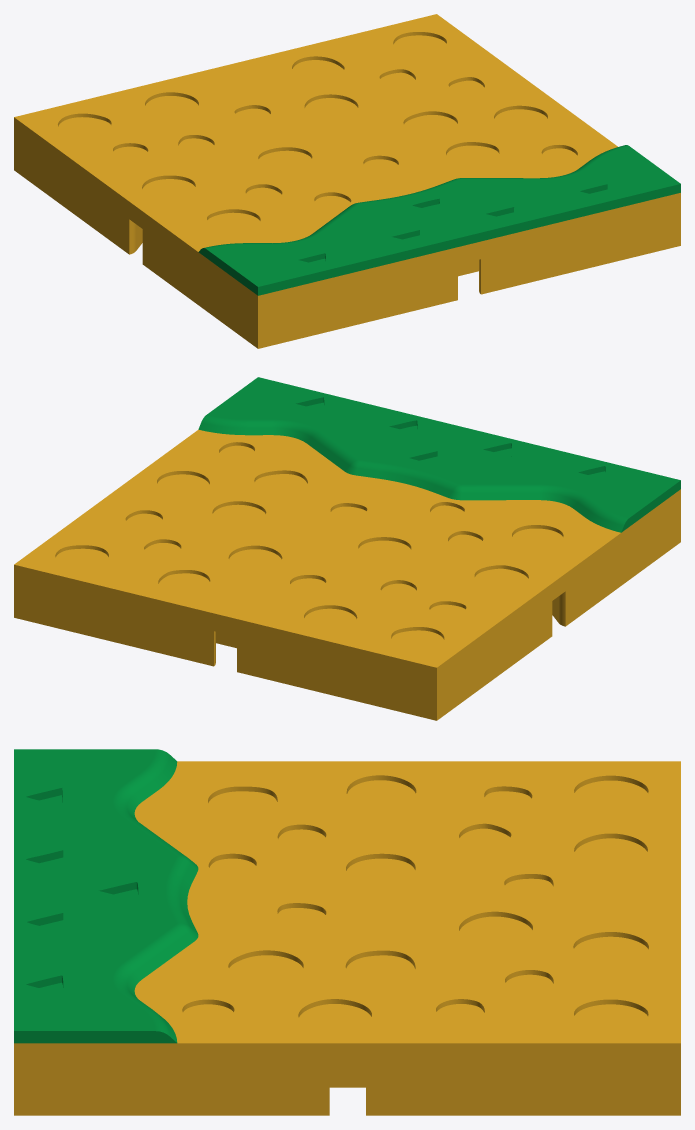
Rendered from 5x5 Grass On Sand Straight.obj.
3 renders of one model, top to bottom at view 1: azimuth 30°, elevation 25°; view 2: azimuth 150°, elevation 25°; view 3: azimuth 270°, elevation 25°, orthographic. The views are drawn at different scales.
Parts seen in each view (by area): view 1: Körper1:1, Körper1; view 2: Körper1:1, Körper1; view 3: Körper1:1, Körper1.
Boxes of the visible parts, x1,y1,x2,y2 form: Körper1:1: [14, 14, 680, 348]; Körper1: [198, 145, 680, 295]; Körper1:1: [14, 429, 680, 720]; Körper1: [198, 377, 680, 532]; Körper1:1: [14, 761, 680, 1115]; Körper1: [14, 749, 198, 1043].
Bounding box in the file's own units: 50 × 7 × 50.
